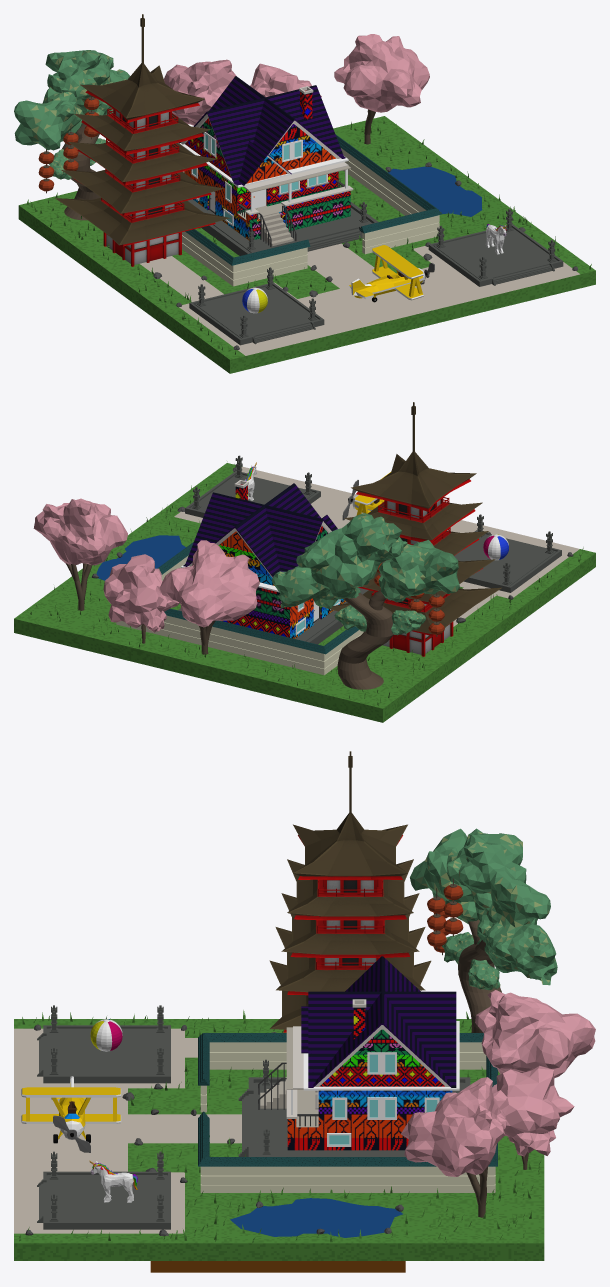
3 renders of one model, top to bottom at view 1: azimuth 30°, elevation 25°; view 2: azimuth 150°, elevation 25°; view 3: azimuth 270°, elevation 25°, orthographic. The views are drawn at different scales.
Visible parts, largest first — view 1: Cube.005, Cube.966, VEHICLES_AIRPLANE, OBJRANDOM_BEACHBALL, ANIMAL_UNICORNIO; view 2: Cube.005, Cube.966, VEHICLES_AIRPLANE, OBJRANDOM_BEACHBALL; view 3: Cube.005, Cube.966, VEHICLES_AIRPLANE, UNDERGROUND_ART_PIECE_VAN_GOGH, ANIMAL_UNICORNIO, OBJRANDOM_BEACHBALL.
Part boxes in pixels (x1,y1,x2,y2): Cube.005: (14, 14, 595, 373); Cube.966: (178, 76, 353, 247); VEHICLES_AIRPLANE: (349, 245, 434, 302); OBJRANDOM_BEACHBALL: (242, 287, 267, 313); ANIMAL_UNICORNIO: (485, 224, 506, 254); Cube.005: (14, 402, 595, 722); Cube.966: (181, 480, 345, 638); VEHICLES_AIRPLANE: (342, 472, 390, 520); OBJRANDOM_BEACHBALL: (483, 534, 508, 560); Cube.005: (14, 751, 595, 1260); Cube.966: (258, 956, 459, 1150); VEHICLES_AIRPLANE: (21, 1076, 121, 1152); UNDERGROUND_ART_PIECE_VAN_GOGH: (150, 1261, 405, 1272); ANIMAL_UNICORNIO: (89, 1160, 137, 1202); OBJRANDOM_BEACHBALL: (90, 1019, 122, 1051).
Bounding box in the file's own units: 4528 × 2816 × 4389.
Materials: 55 (10 with a texture image).
